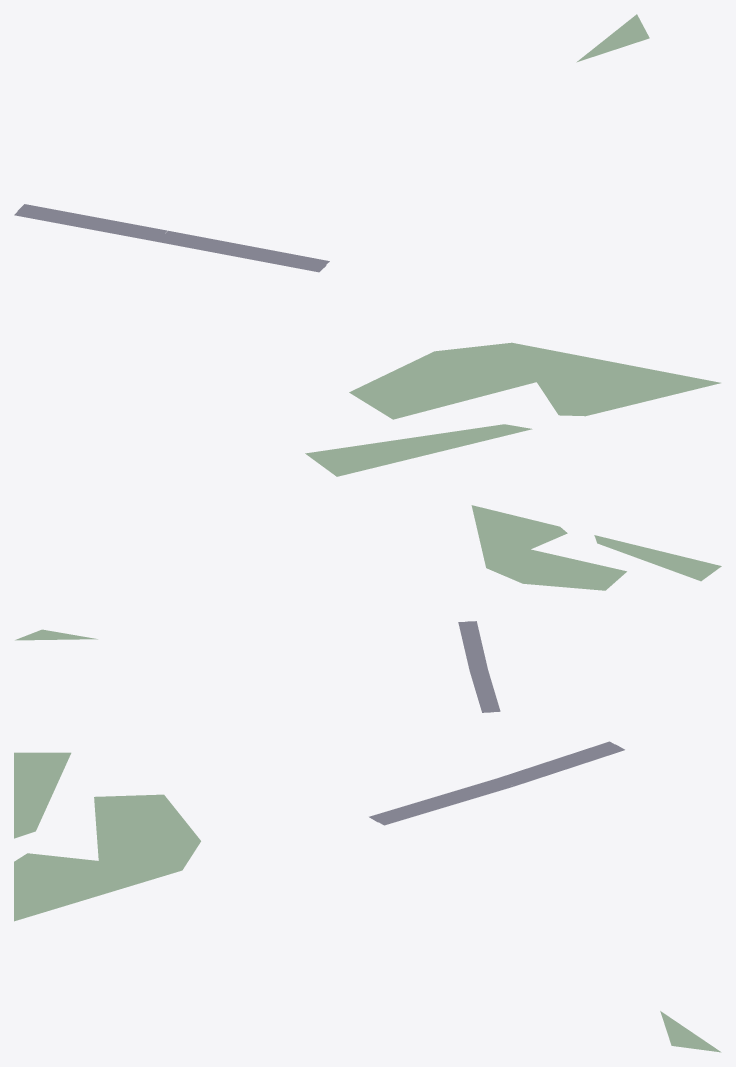
The model's file is 138_80_mid.glb.
3 renders of one model, top to bottom at view 1: azimuth 30°, elevation 25°; view 2: azimuth 150°, elevation 25°; view 3: azimuth 270°, elevation 25°, orthographic. The views are drawn at different scales.
Size of the model in its own units: 392 by 9.07 by 386.
